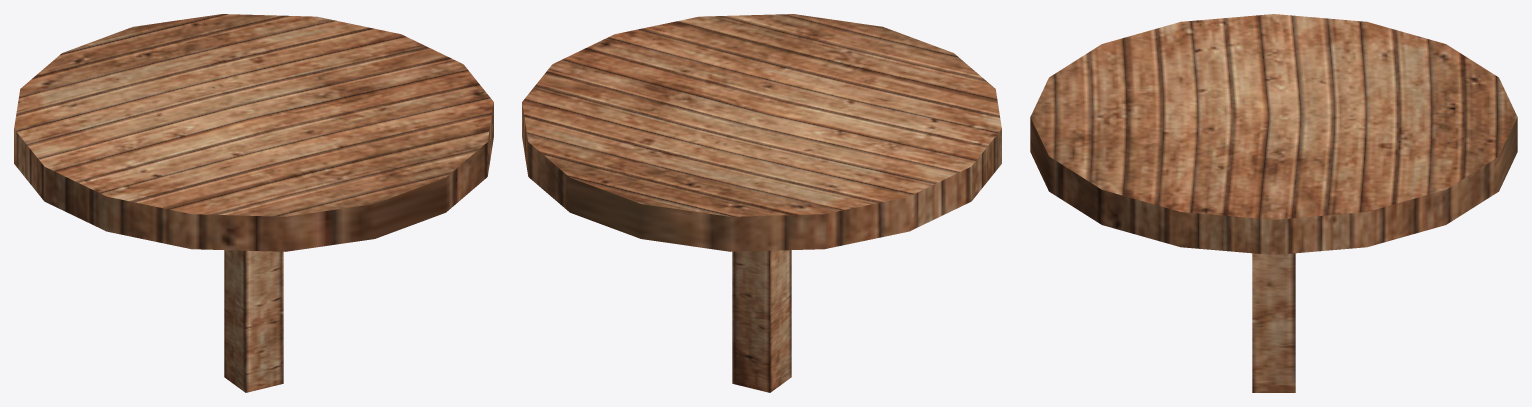
The model's file is obj_table.fbx.
3 views of the same model, side by side, from view 1: azimuth 30°, elevation 25°; view 2: azimuth 150°, elevation 25°; view 3: azimuth 270°, elevation 25° (orthographic).
Parts seen in each view (by area): view 1: polySurface1323; view 2: polySurface1323; view 3: polySurface1323.
Boxes of the visible parts, bbox=[...] form: polySurface1323: bbox=[14, 14, 493, 392]; polySurface1323: bbox=[522, 14, 1001, 392]; polySurface1323: bbox=[1030, 14, 1517, 392].
Bounding box in the file's own units: 3.02 × 1.83 × 3.02.
Materials: 1 (1 with a texture image).
